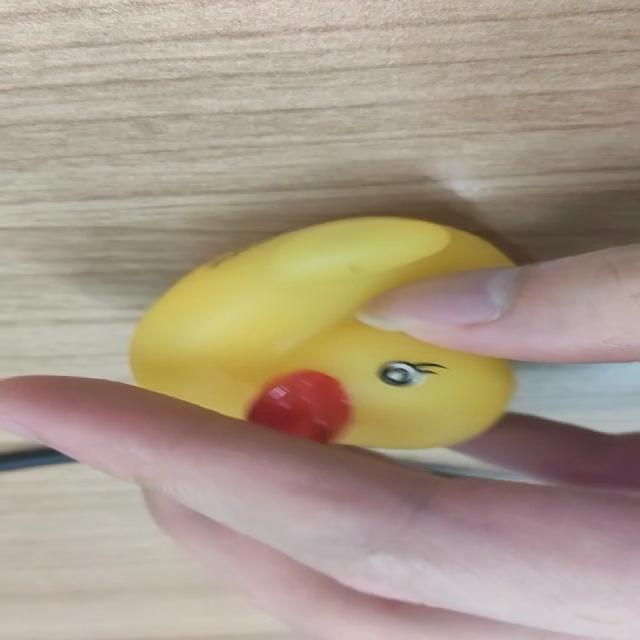rubber-duck: (129, 216, 511, 446)
